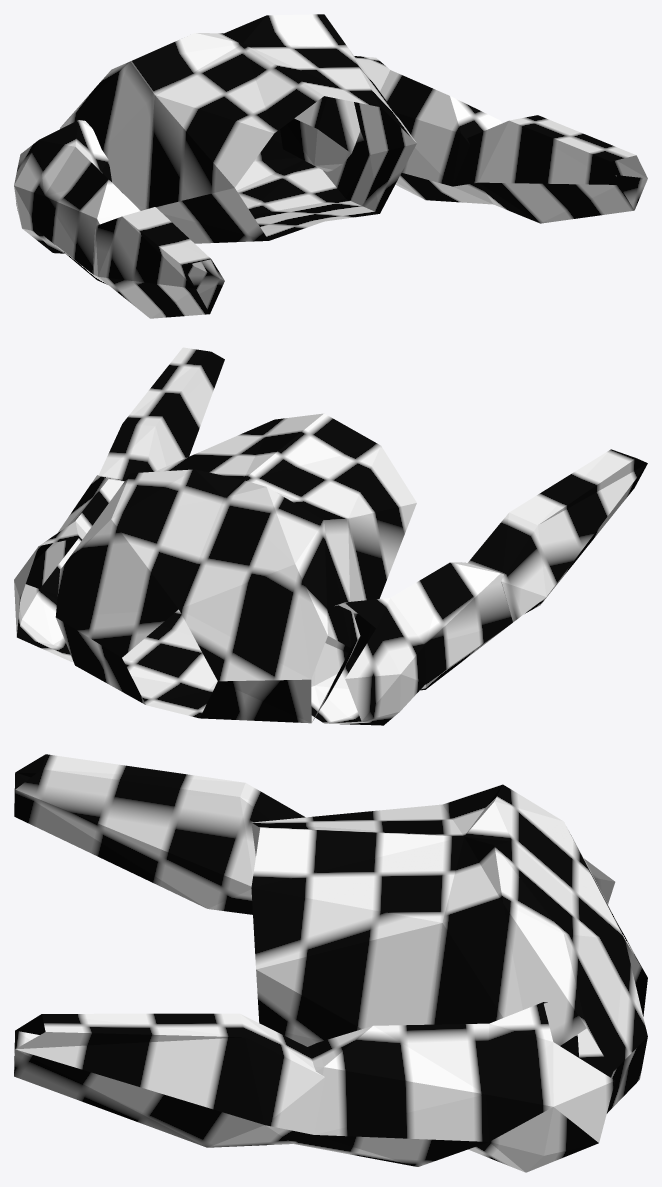
Rendered from initarsh2.dae.
3 views of the same model, one above another, from view 1: azimuth 30°, elevation 25°; view 2: azimuth 150°, elevation 25°; view 3: azimuth 270°, elevation 25° (orthographic). The views are drawn at different scales.
Visible parts, largest first — view 1: armor; view 2: armor; view 3: armor.
Part boxes in pixels (x1=…): armor: x1=14, y1=14, x2=647, y2=318; armor: x1=14, y1=347, x2=647, y2=725; armor: x1=14, y1=754, x2=647, y2=1172.
Bounding box in the file's own units: 1.74 × 1.68 × 0.7298.
1 material, 1 textured.
